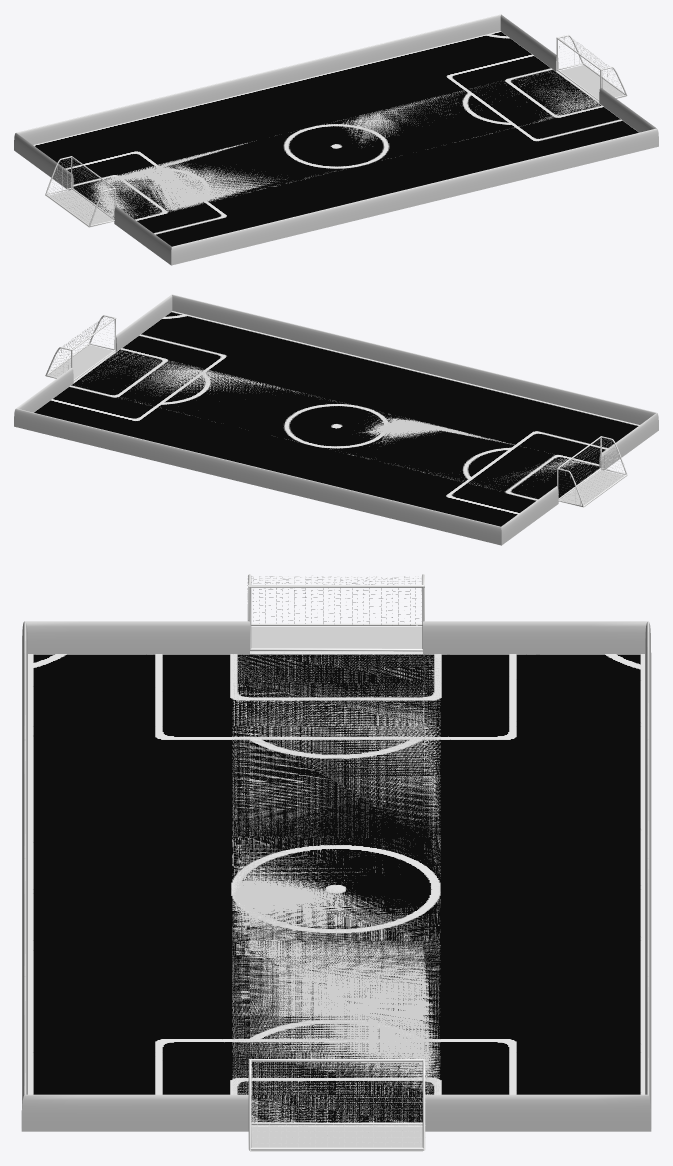
File: FootballBorder2.fbx
3 views of the same model, one above another, from view 1: azimuth 30°, elevation 25°; view 2: azimuth 150°, elevation 25°; view 3: azimuth 270°, elevation 25° (orthographic). The views are drawn at different scales.
Visible parts, largest first — view 1: Plane, Cube.005, Plane.001, Frame.001, Frame, Net.001, Net; view 2: Plane, Cube.005, Plane.001, Frame.001, Frame, Net, Net.001; view 3: Plane, Plane.001, Cube.005, Frame, Net, Frame.001, Net.001.
Part boxes in pixels (x1,y1,x2,y2): Plane: (33, 31, 638, 246); Cube.005: (14, 14, 658, 265); Plane.001: (46, 65, 626, 227); Frame.001: (45, 156, 115, 227); Frame: (556, 35, 627, 100); Net.001: (47, 157, 115, 225); Net: (559, 37, 622, 93); Plane: (34, 311, 639, 526); Cube.005: (14, 294, 658, 545); Plane.001: (46, 345, 626, 507); Frame.001: (557, 436, 627, 507); Frame: (45, 315, 116, 380); Net: (46, 317, 114, 374); Net.001: (561, 438, 624, 504); Plane: (28, 651, 644, 1126); Plane.001: (232, 626, 440, 1151); Cube.005: (21, 621, 651, 1131); Frame: (248, 1059, 425, 1150); Net: (252, 1060, 426, 1147); Frame.001: (248, 574, 424, 651); Net.001: (247, 575, 421, 625).
Bounding box in the file's own units: 3006 × 191 × 1520.
